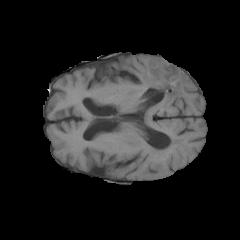glioma: (140, 61, 187, 158)
